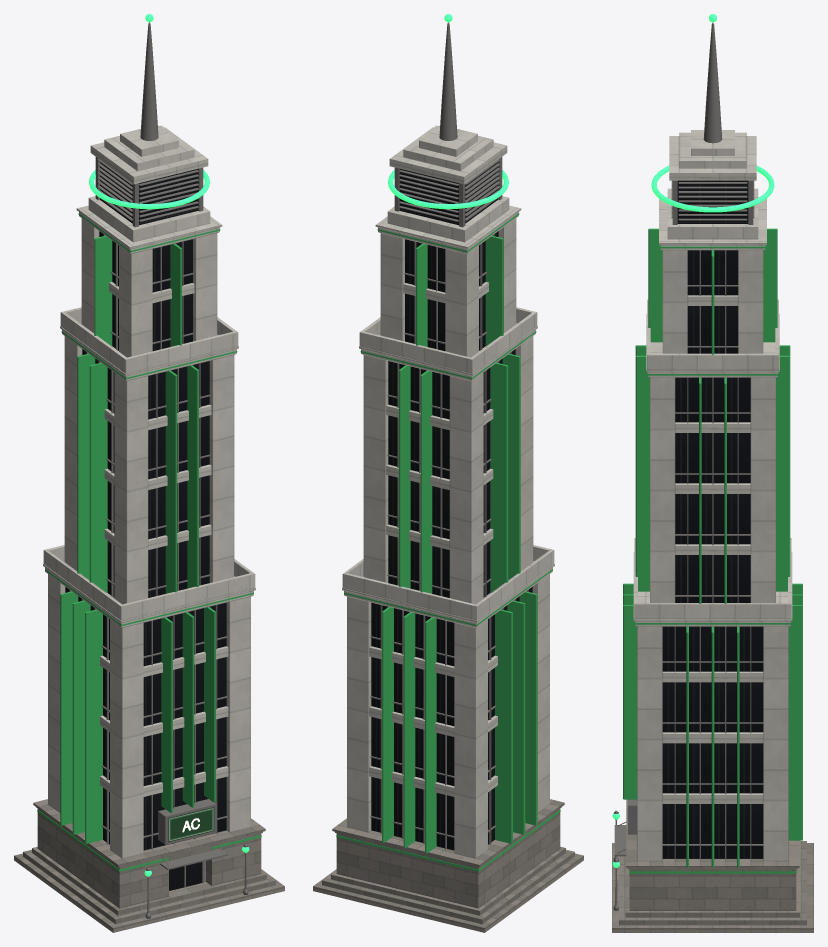
The model's file is s23-avatar-chat.glb.
The picture shows the model from 3 angles, left to right: view 1: azimuth 30°, elevation 25°; view 2: azimuth 150°, elevation 25°; view 3: azimuth 270°, elevation 25°; orthographic projection.
Parts seen in each view (by area): view 1: Landmark · Avatar.Chat (Series 23); view 2: Landmark · Avatar.Chat (Series 23); view 3: Landmark · Avatar.Chat (Series 23).
Part boxes in pixels (box(x1,y1,x2,y2)): Landmark · Avatar.Chat (Series 23): box(14, 14, 284, 932); Landmark · Avatar.Chat (Series 23): box(313, 14, 583, 932); Landmark · Avatar.Chat (Series 23): box(612, 14, 813, 932).
Bounding box in the file's own units: 12 × 57.5 × 12.
7 materials, 4 textured.
